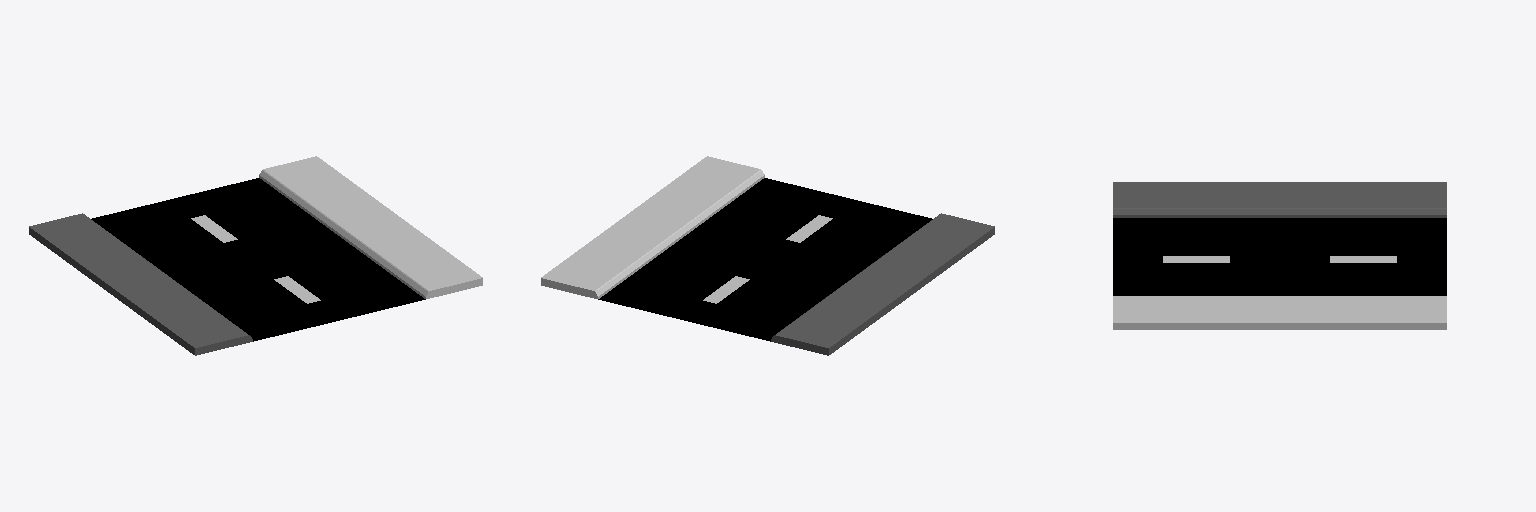
The model's file is street_str.obj.
The picture shows the model from 3 angles: view 1: azimuth 30°, elevation 25°; view 2: azimuth 150°, elevation 25°; view 3: azimuth 270°, elevation 25°; orthographic projection.
Visible parts, largest first — view 1: Plane, Cube.001_Cube.003, Cube_Cube.001; view 2: Plane, Cube.001_Cube.003, Cube_Cube.001; view 3: Plane, Cube_Cube.001, Cube.001_Cube.003.
Part boxes in pixels (left/top/right/bottom): Plane: left=91, top=178, right=425, bottom=341; Cube.001_Cube.003: left=259, top=156, right=482, bottom=298; Cube_Cube.001: left=29, top=213, right=252, bottom=355; Plane: left=598, top=178, right=932, bottom=341; Cube.001_Cube.003: left=541, top=156, right=764, bottom=298; Cube_Cube.001: left=771, top=213, right=994, bottom=355; Plane: left=1113, top=218, right=1446, bottom=295; Cube_Cube.001: left=1113, top=182, right=1446, bottom=217; Cube.001_Cube.003: left=1113, top=296, right=1446, bottom=329.
Size of the model in its own units: 10 by 0.25 by 10.